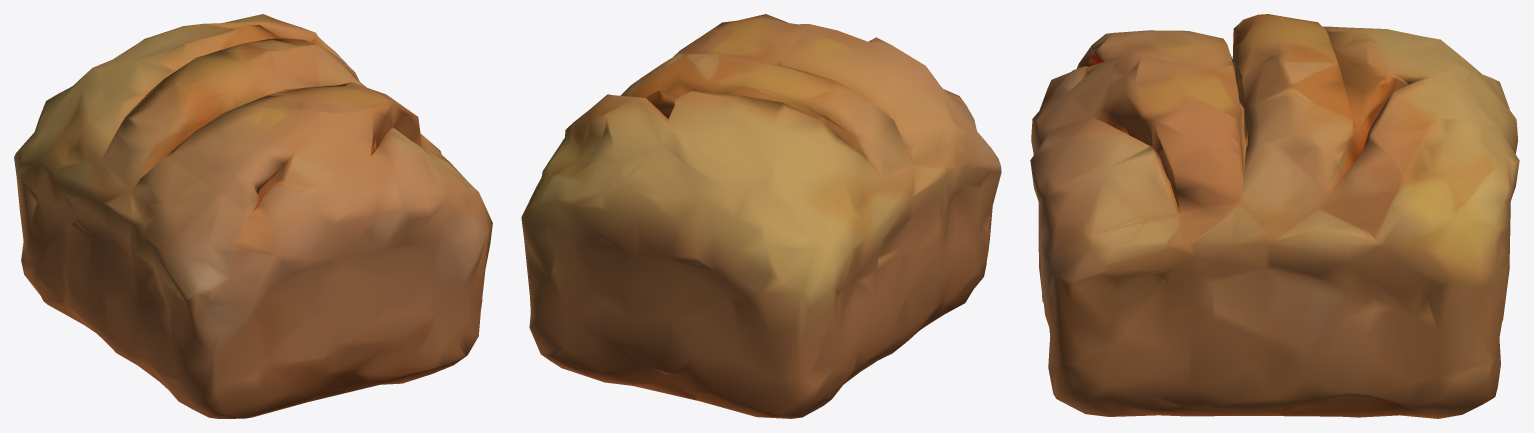
Rendered from item_bread.glb.
3 renders of one model, left to right at view 1: azimuth 30°, elevation 25°; view 2: azimuth 150°, elevation 25°; view 3: azimuth 270°, elevation 25°, orthographic. The views are drawn at different scales.
Parts seen in each view (by area): view 1: tripo_node_be8024cb-dac4-45ff-9440-44da38e099a8; view 2: tripo_node_be8024cb-dac4-45ff-9440-44da38e099a8; view 3: tripo_node_be8024cb-dac4-45ff-9440-44da38e099a8.
Part boxes in pixels (x1,y1,x2,y2): tripo_node_be8024cb-dac4-45ff-9440-44da38e099a8: (14, 14, 492, 418); tripo_node_be8024cb-dac4-45ff-9440-44da38e099a8: (521, 14, 1001, 418); tripo_node_be8024cb-dac4-45ff-9440-44da38e099a8: (1030, 14, 1519, 418).
Bounding box in the file's own units: 0.8373 × 0.7087 × 1.
1 material, 1 textured.
